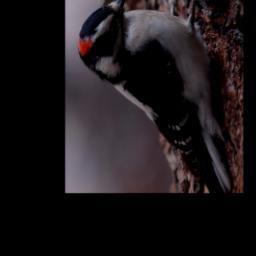Woodpecker: (74, 0, 234, 191)
